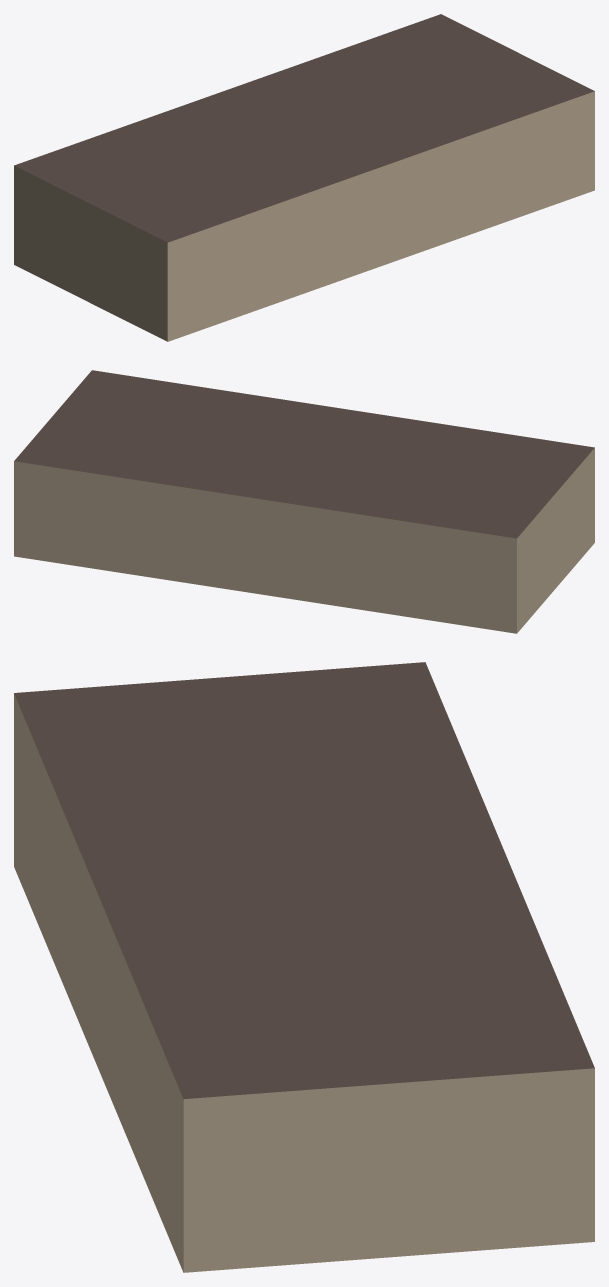
3 renders of one model, top to bottom at view 1: azimuth 30°, elevation 25°; view 2: azimuth 150°, elevation 25°; view 3: azimuth 270°, elevation 25°, orthographic. The views are drawn at different scales.
Visible parts, largest first — view 1: HP-w1286965257; view 2: HP-w1286965257; view 3: HP-w1286965257.
Boxes of the visible parts, bbox=[...] form: HP-w1286965257: bbox=[14, 14, 594, 341]; HP-w1286965257: bbox=[14, 370, 594, 633]; HP-w1286965257: bbox=[14, 662, 594, 1272].
Size of the model in its own units: 48.58 by 9 by 27.29.
